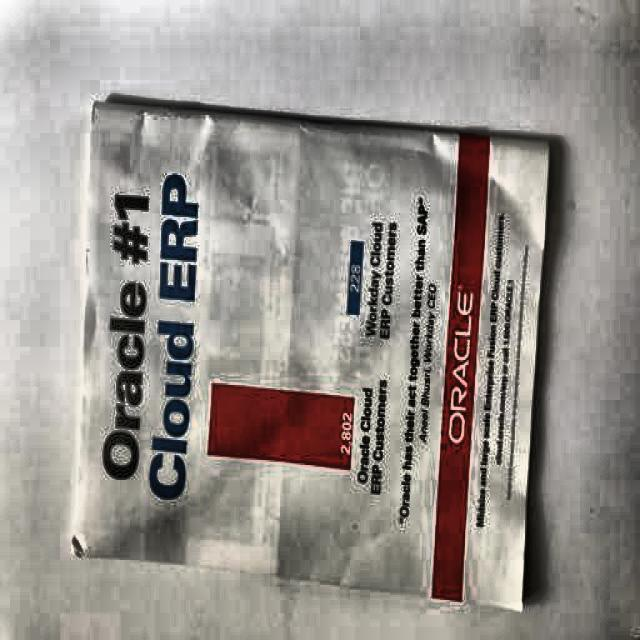paper: (72, 99, 553, 625)
